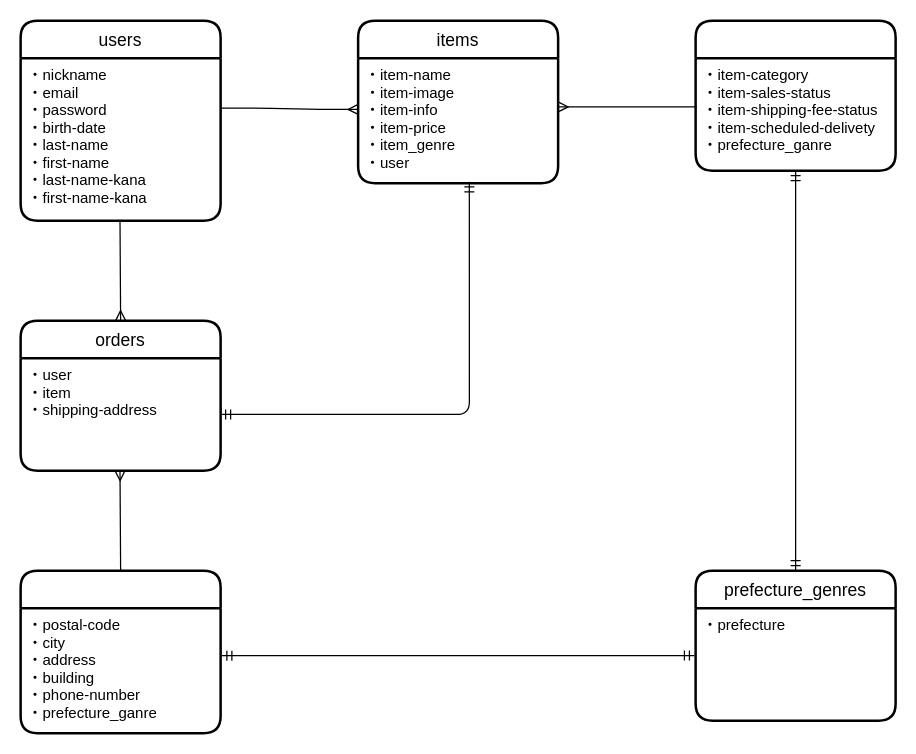
Image size: 916x754. Some labels were removed from this diagram. Here are the shapes that lost their labels. From the top down, the box of each, then its label:
(694, 19, 896, 171): item_genres
(19, 569, 221, 734): shipping_addresses
